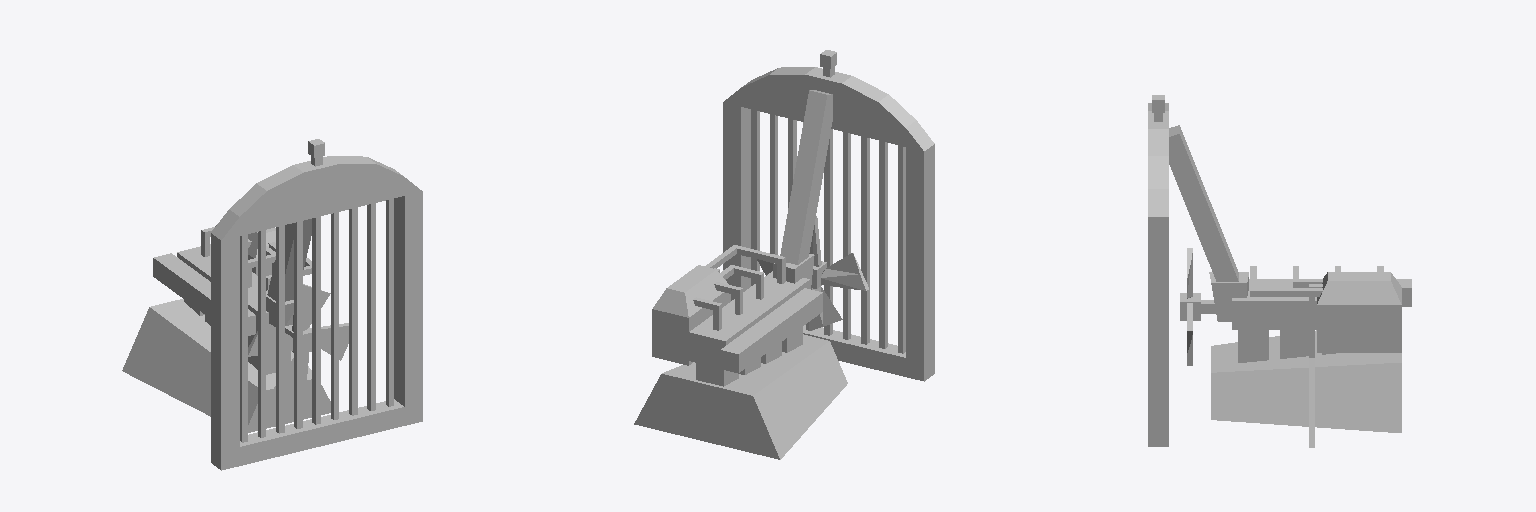
File: ryzer4flatheadpistonengine.obj
The picture shows the model from 3 angles: view 1: azimuth 30°, elevation 25°; view 2: azimuth 150°, elevation 25°; view 3: azimuth 270°, elevation 25°; orthographic projection.
Parts seen in each view (by area): view 1: #Radiator, $Block, $Fan; view 2: #Radiator, $Block, $Fan; view 3: $Block, #Radiator, $Fan.
Part boxes in pixels (bbox=[...]): #Radiator: bbox=[211, 139, 422, 470]; $Block: bbox=[122, 225, 330, 432]; $Fan: bbox=[248, 284, 348, 396]; #Radiator: bbox=[723, 50, 934, 381]; $Block: bbox=[634, 245, 847, 459]; $Fan: bbox=[757, 216, 868, 330]; $Block: bbox=[1209, 266, 1411, 447]; #Radiator: bbox=[1148, 95, 1238, 446]; $Fan: bbox=[1180, 248, 1215, 365].
Size of the model in its own units: 0.6875 by 1.03 by 0.7812.